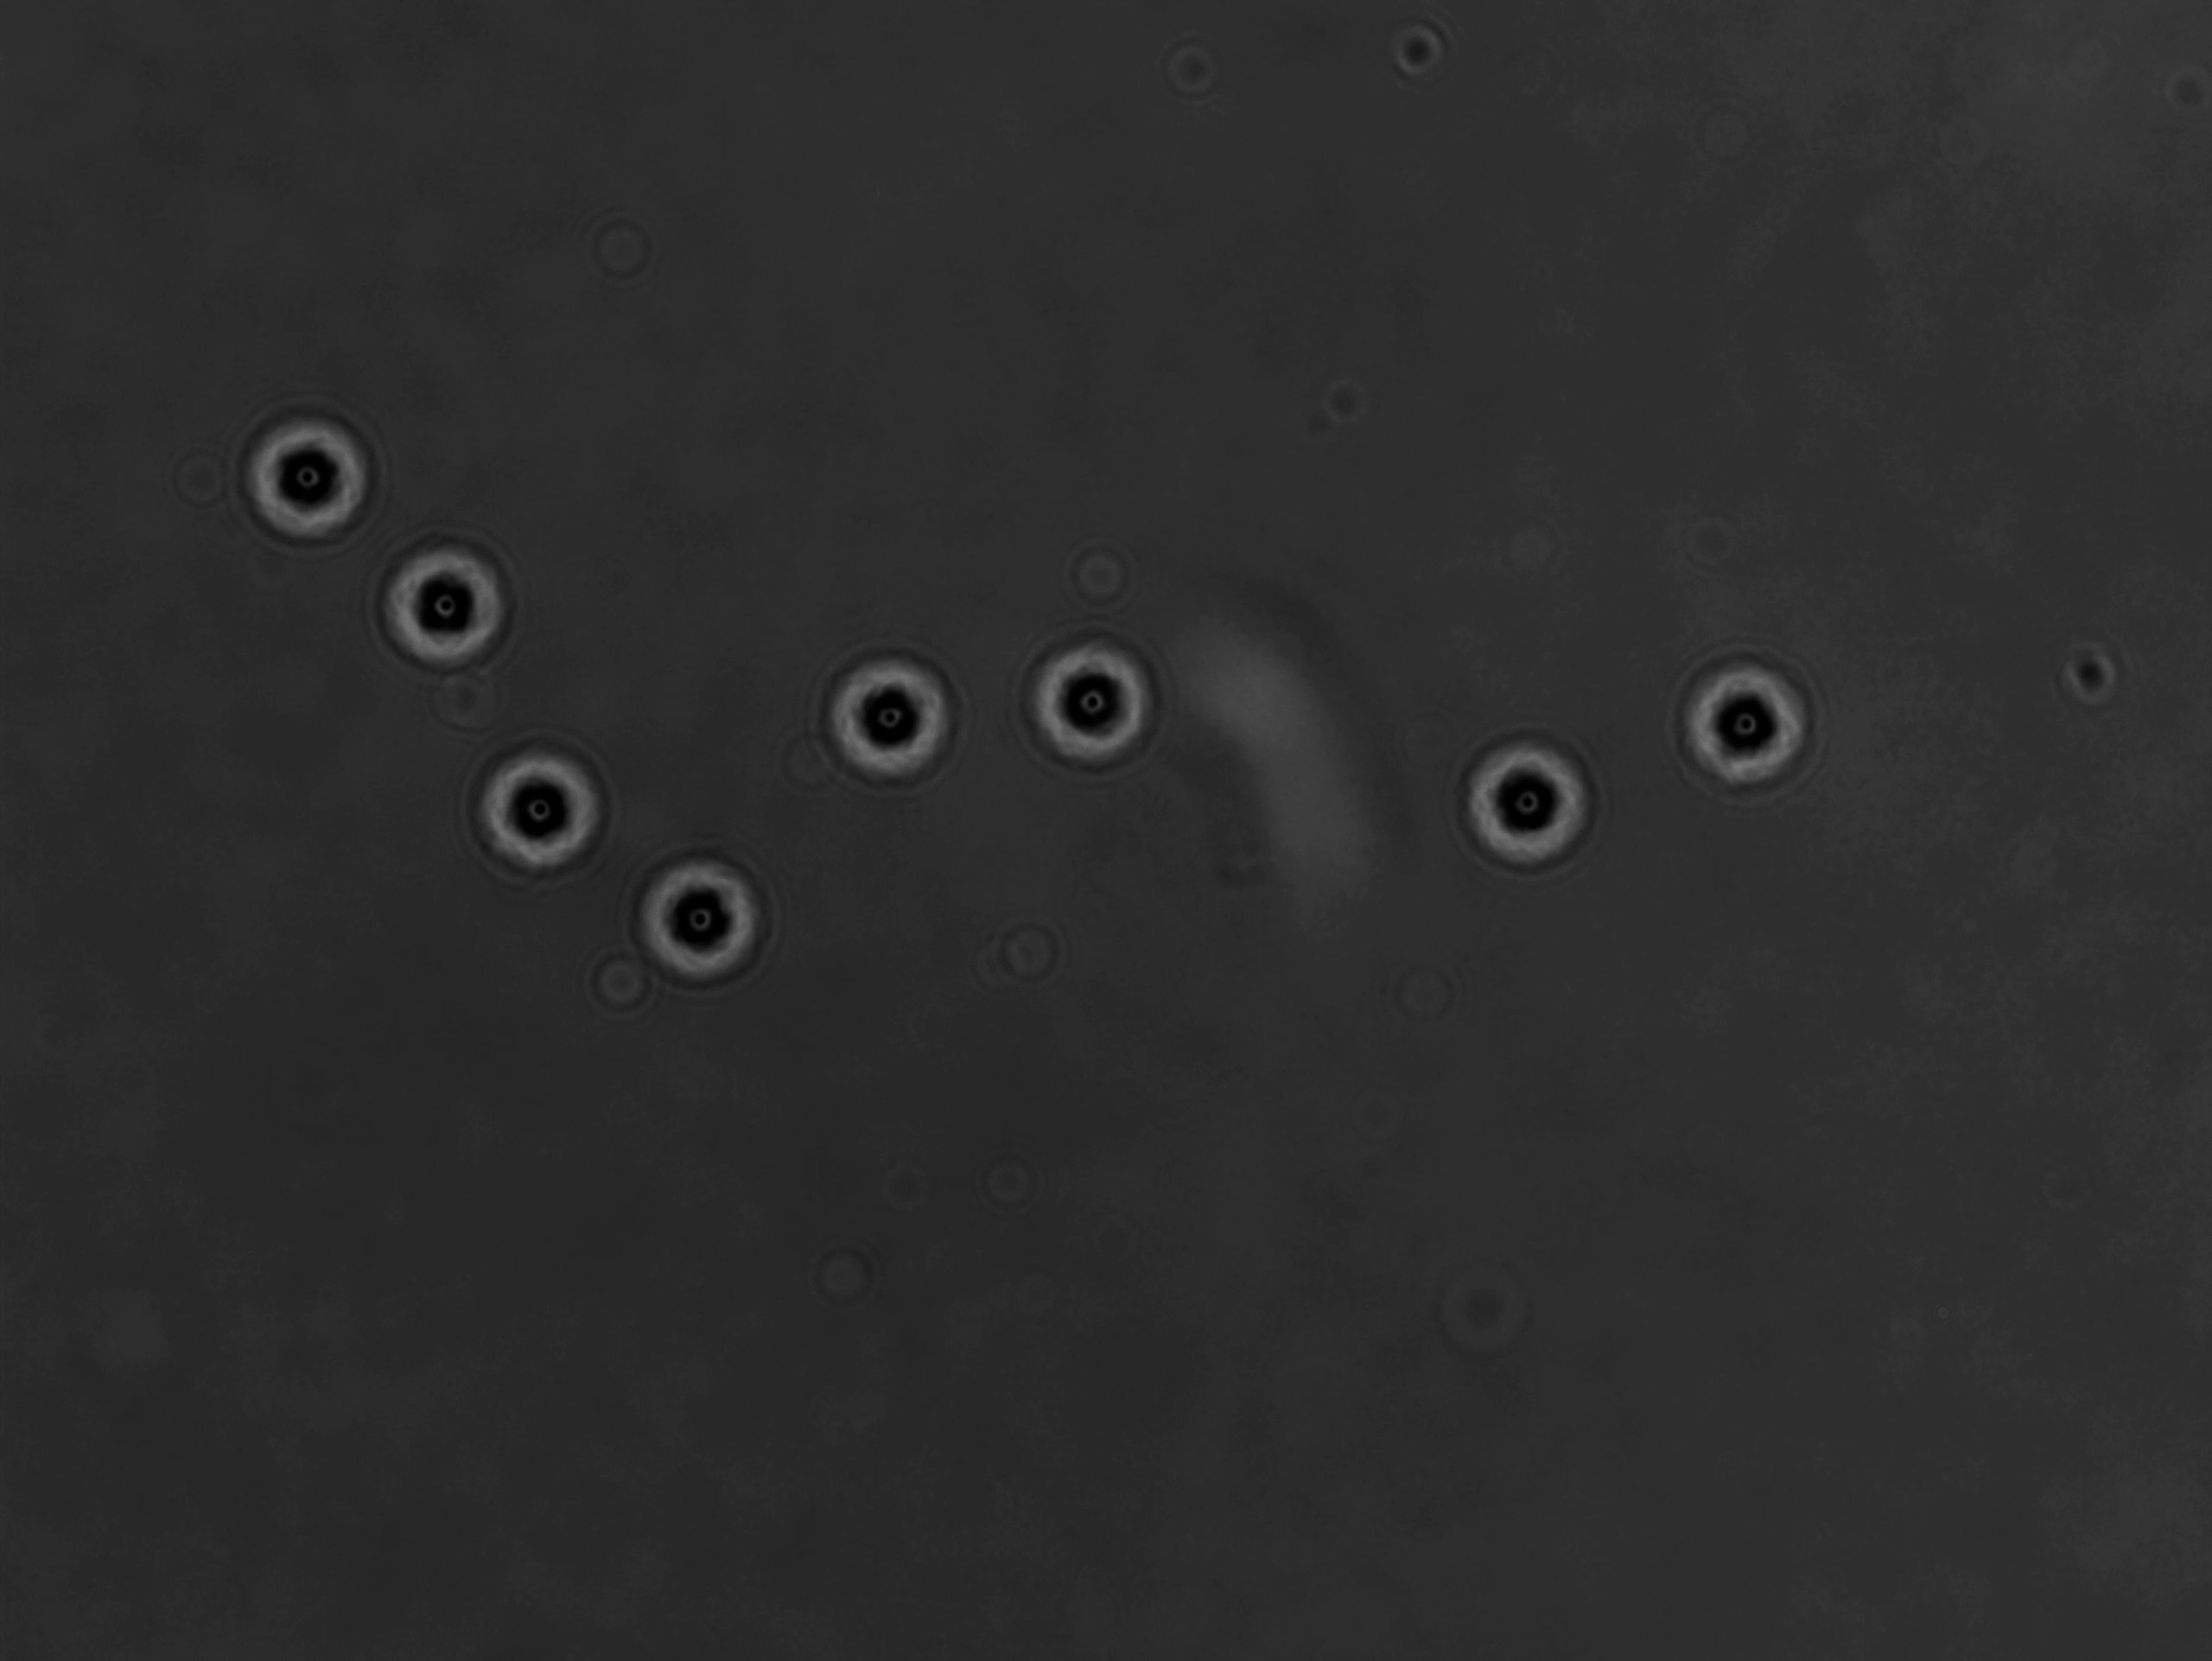depth:-20: (1441, 705, 1631, 881), (1008, 619, 1181, 787), (1657, 635, 1825, 806), (361, 508, 523, 680), (806, 640, 973, 803), (462, 717, 619, 883), (229, 403, 384, 569), (625, 843, 785, 988)
